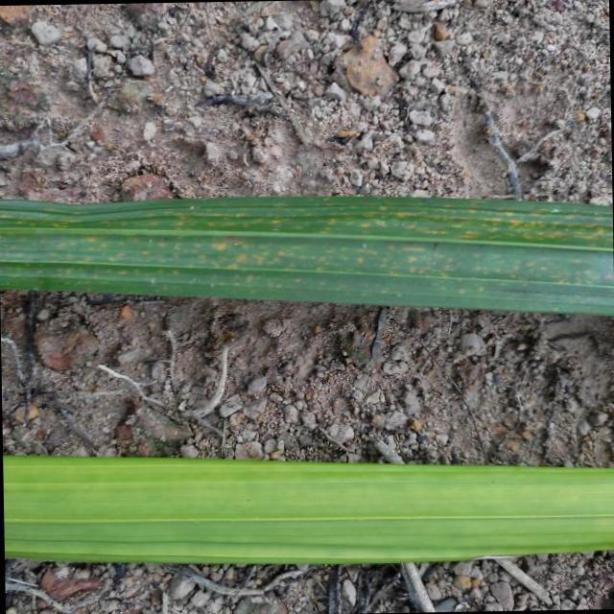nitrogen: (0, 190, 614, 320), (0, 444, 614, 564)
